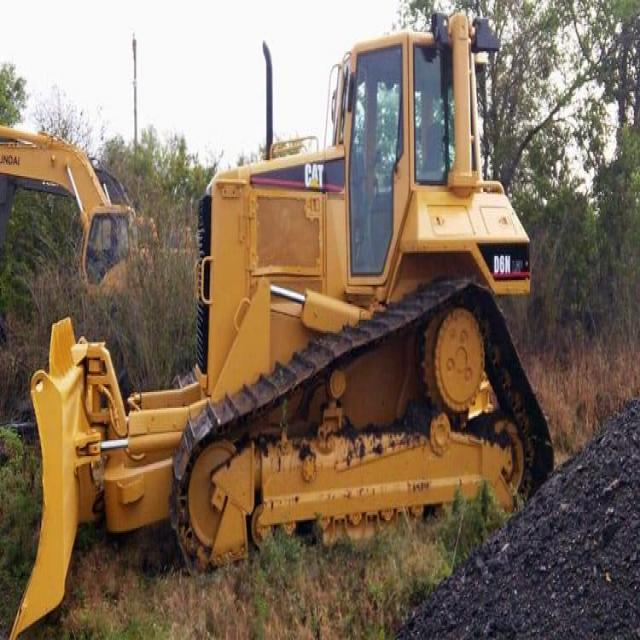Bulldozer: (20, 19, 571, 606)
